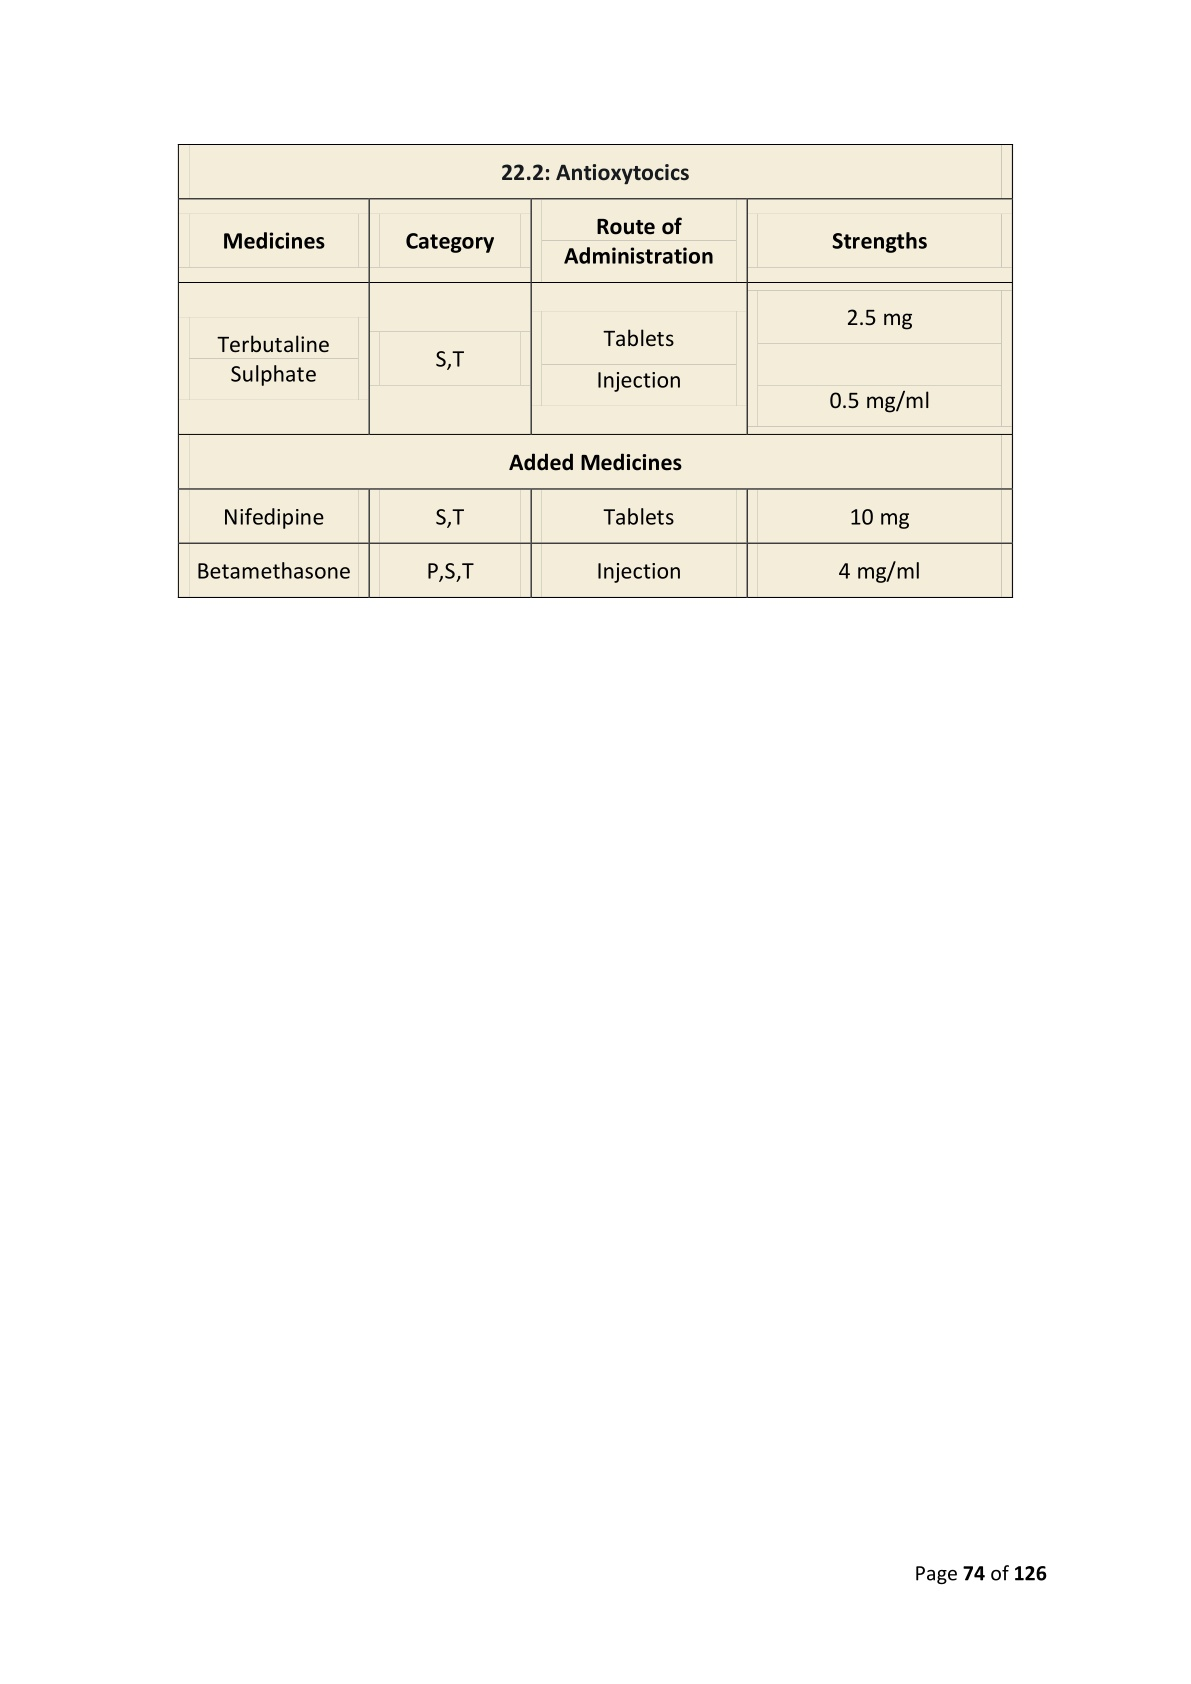merged_cells: (177, 143, 1013, 599)
